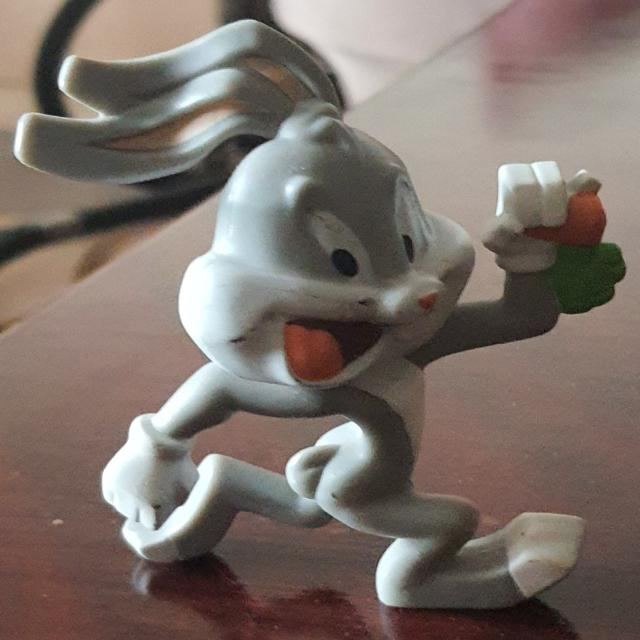Rabbit: (12, 12, 623, 611)
